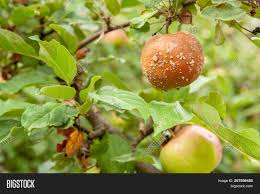apple: (153, 121, 226, 173)
damaged_apple: (141, 36, 208, 92)
